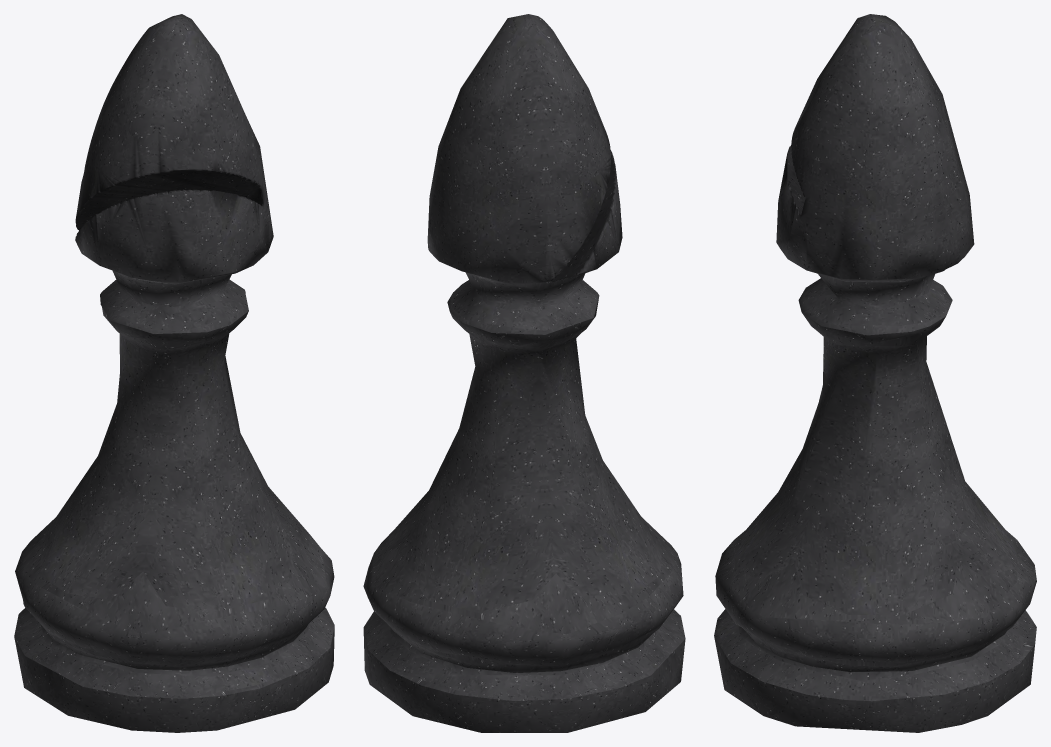
File: strelec_cerna.glb
3 views of the same model, side by side, from view 1: azimuth 30°, elevation 25°; view 2: azimuth 150°, elevation 25°; view 3: azimuth 270°, elevation 25° (orthographic).
Visible parts, largest first — view 1: strelec_cerna; view 2: strelec_cerna; view 3: strelec_cerna.
Boxes of the visible parts, x1,y1,x2,y2 form: strelec_cerna: (14,14,334,732); strelec_cerna: (363,14,685,732); strelec_cerna: (714,14,1036,732).
Size of the model in its own units: 0.0335 by 0.076 by 0.0335.
1 material, 1 textured.
